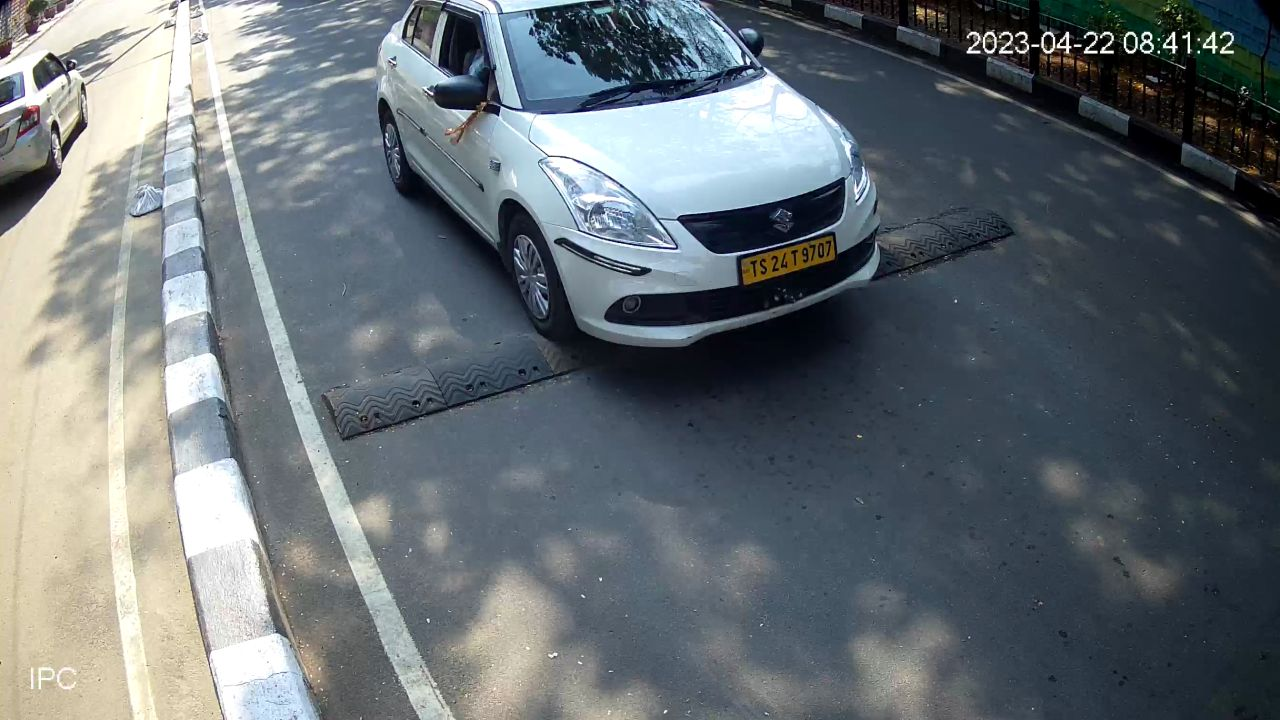license_plate: (732, 227, 841, 294)
